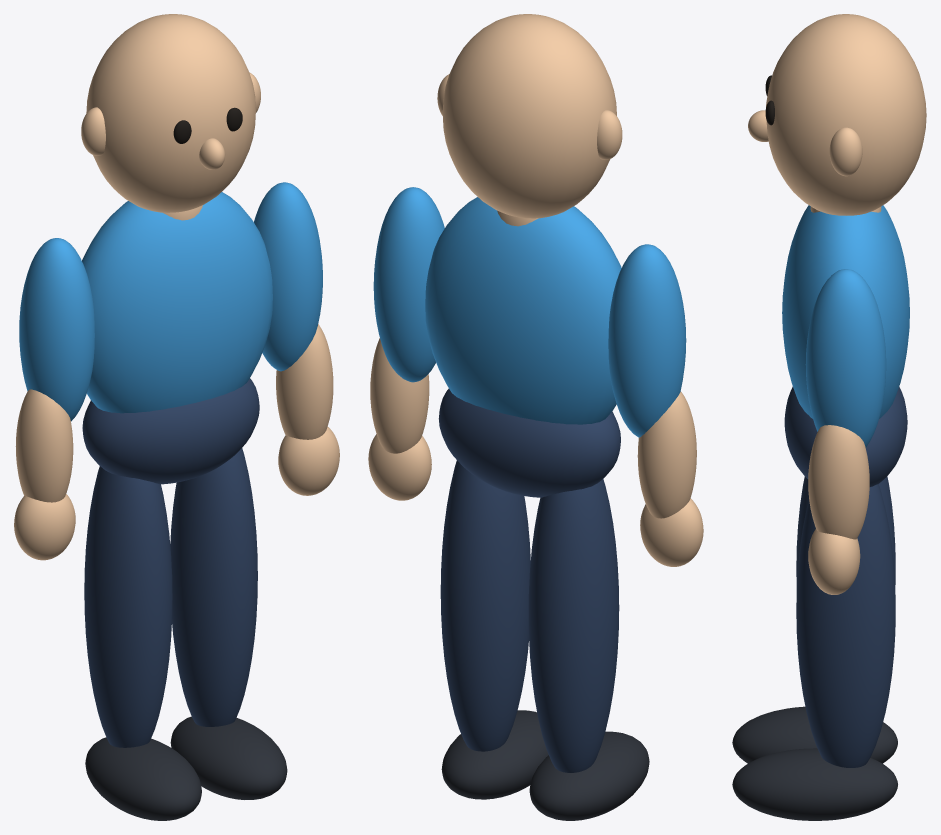
File: simple-human.glb
The picture shows the model from 3 angles, left to right: view 1: azimuth 30°, elevation 25°; view 2: azimuth 150°, elevation 25°; view 3: azimuth 270°, elevation 25°; orthographic projection. The views are drawn at different scales.
Parts seen in each view (by area): view 1: Torso, Head, Left leg, Right leg, Hips, Left upper arm, Right upper arm, Left shoe, Right shoe, Left forearm, Right forearm, Left hand (+3 smaller); view 2: Torso, Head, Left leg, Right leg, Hips, Left upper arm, Right upper arm, Left shoe, Right shoe, Left forearm, Right forearm, Left hand (+2 smaller); view 3: Head, Right leg, Torso, Right upper arm, Right shoe, Right forearm, Hips, Left shoe, Right hand, Right ear, Left leg, Nose.
Boxes of the visible parts, x1=… form: Torso: x1=82, y1=192, x2=272, y2=413; Head: x1=86, y1=14, x2=255, y2=212; Left leg: x1=84, y1=466, x2=172, y2=747; Right leg: x1=170, y1=448, x2=257, y2=726; Hips: x1=82, y1=378, x2=259, y2=484; Left upper arm: x1=19, y1=238, x2=94, y2=421; Right upper arm: x1=254, y1=182, x2=322, y2=371; Left shoe: x1=85, y1=737, x2=201, y2=820; Right shoe: x1=170, y1=716, x2=287, y2=799; Left forearm: x1=15, y1=389, x2=73, y2=502; Right forearm: x1=276, y1=324, x2=333, y2=439; Left hand: x1=14, y1=494, x2=75, y2=560; Torso: x1=425, y1=197, x2=621, y2=424; Head: x1=442, y1=14, x2=616, y2=218; Left leg: x1=528, y1=479, x2=619, y2=772; Right leg: x1=440, y1=460, x2=530, y2=751; Hips: x1=438, y1=388, x2=620, y2=497; Left upper arm: x1=608, y1=244, x2=686, y2=437; Right upper arm: x1=373, y1=187, x2=444, y2=382; Left shoe: x1=529, y1=731, x2=649, y2=820; Right shoe: x1=441, y1=710, x2=548, y2=799; Left forearm: x1=637, y1=391, x2=696, y2=518; Right forearm: x1=370, y1=338, x2=429, y2=453; Left hand: x1=640, y1=498, x2=703, y2=566; Head: x1=766, y1=14, x2=926, y2=215; Right leg: x1=796, y1=484, x2=895, y2=767; Torso: x1=782, y1=205, x2=909, y2=418; Right upper arm: x1=805, y1=269, x2=886, y2=447; Right shoe: x1=732, y1=748, x2=897, y2=820; Right forearm: x1=808, y1=425, x2=869, y2=539; Hips: x1=784, y1=386, x2=907, y2=486; Left shoe: x1=732, y1=706, x2=897, y2=763; Right hand: x1=808, y1=529, x2=860, y2=594; Right ear: x1=829, y1=127, x2=862, y2=176; Left leg: x1=796, y1=476, x2=895, y2=587; Nose: x1=748, y1=110, x2=768, y2=141.
Size of the model in its own units: 0.788 by 1.8 by 0.41.
